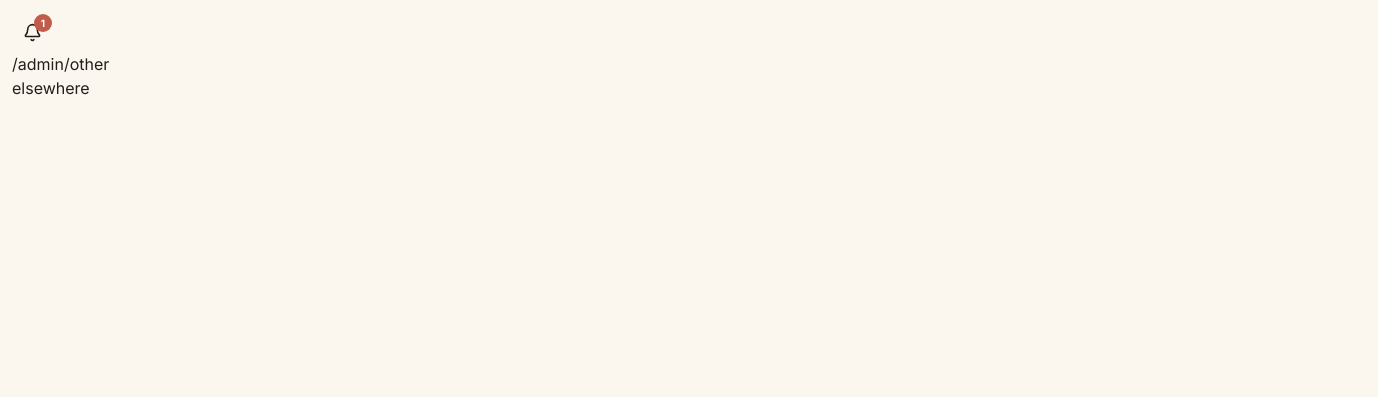
Test: Bell — recent dropdown › read state changes only through the manual toggle, and the counter follows
The image size is (1378, 397).
Expected: the text "1" is shown, top-left (34, 14), bottom-right (52, 32)
Click the button named "Notifications" at (32, 32), box top-left (12, 12), bottom-right (52, 52)
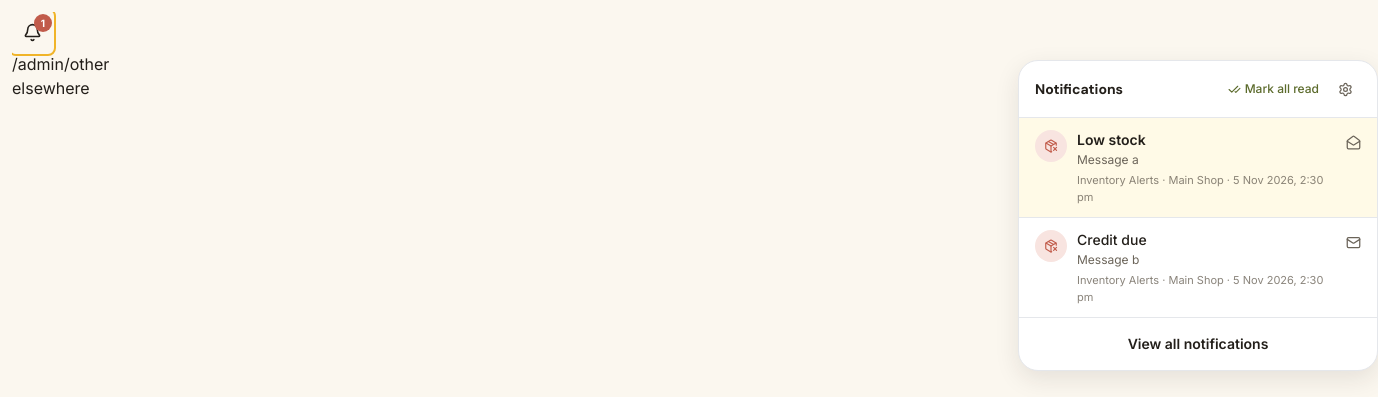
Click the button named "Mark as read: Low stock" at (1353, 142), box top-left (1337, 126), bottom-right (1369, 158)
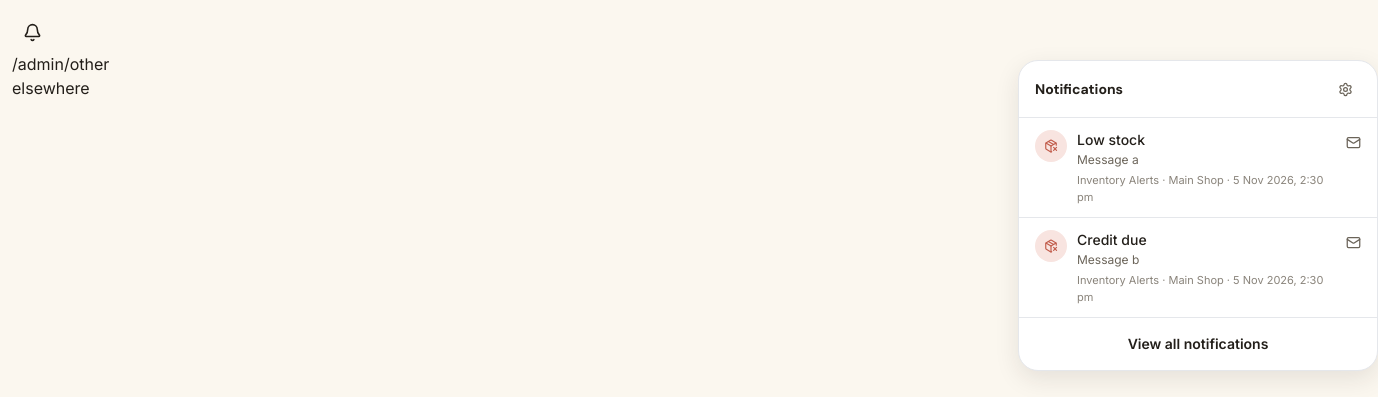
Expected: the text with test id "unread-badge" is gone
Click the button named "Mark as unread: Credit due" at (1353, 242), box top-left (1337, 226), bottom-right (1369, 258)
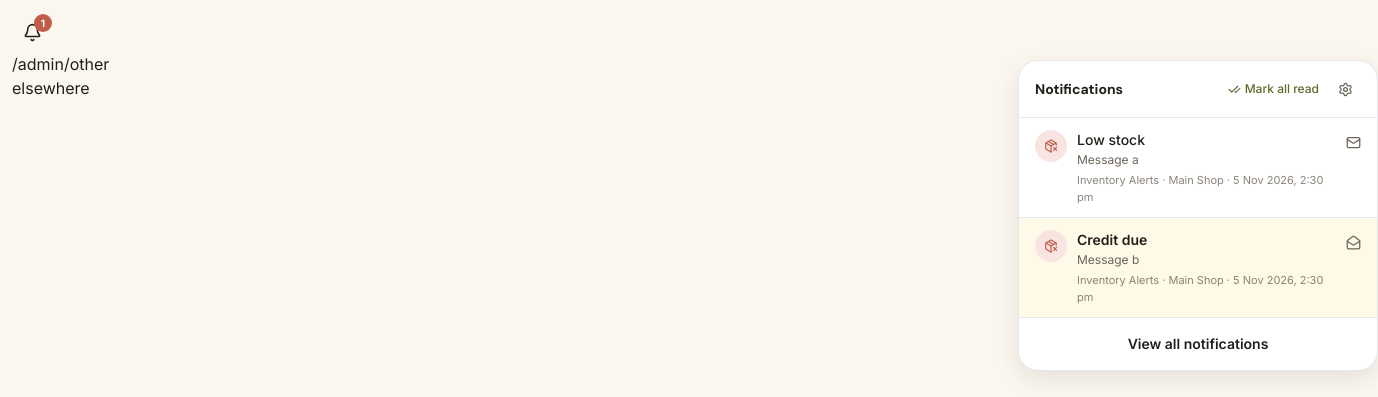
Expected: the text with test id "unread-badge" reads "1", top-left (41, 17), bottom-right (45, 29)
